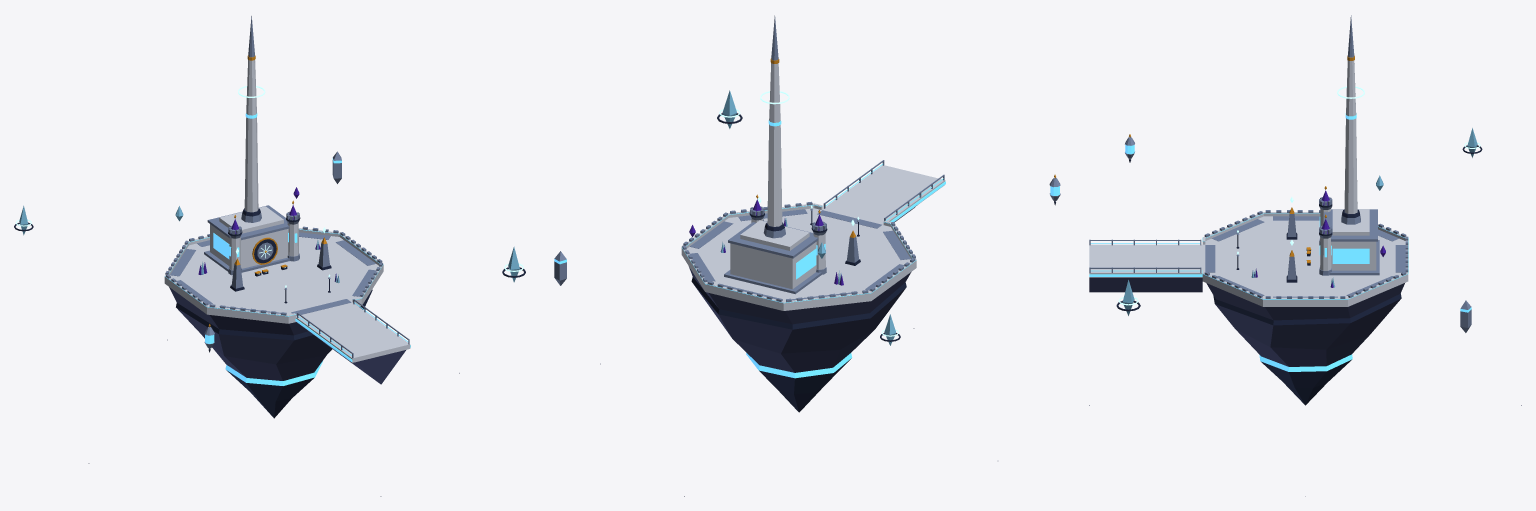
The model's file is chunk_side_vault.fbx.
3 views of the same model, side by side, from view 1: azimuth 30°, elevation 25°; view 2: azimuth 150°, elevation 25°; view 3: azimuth 270°, elevation 25° (orthographic). The views are drawn at different scales.
Parts seen in each view (by area): view 1: chunk_side_vault; view 2: chunk_side_vault; view 3: chunk_side_vault.
Part boxes in pixels (x1,y1,x2,y2): chunk_side_vault: (14,16,525,496); chunk_side_vault: (554,15,1060,496); chunk_side_vault: (1089,15,1521,496).
Bounding box in the file's own units: 256 × 256 × 256.
